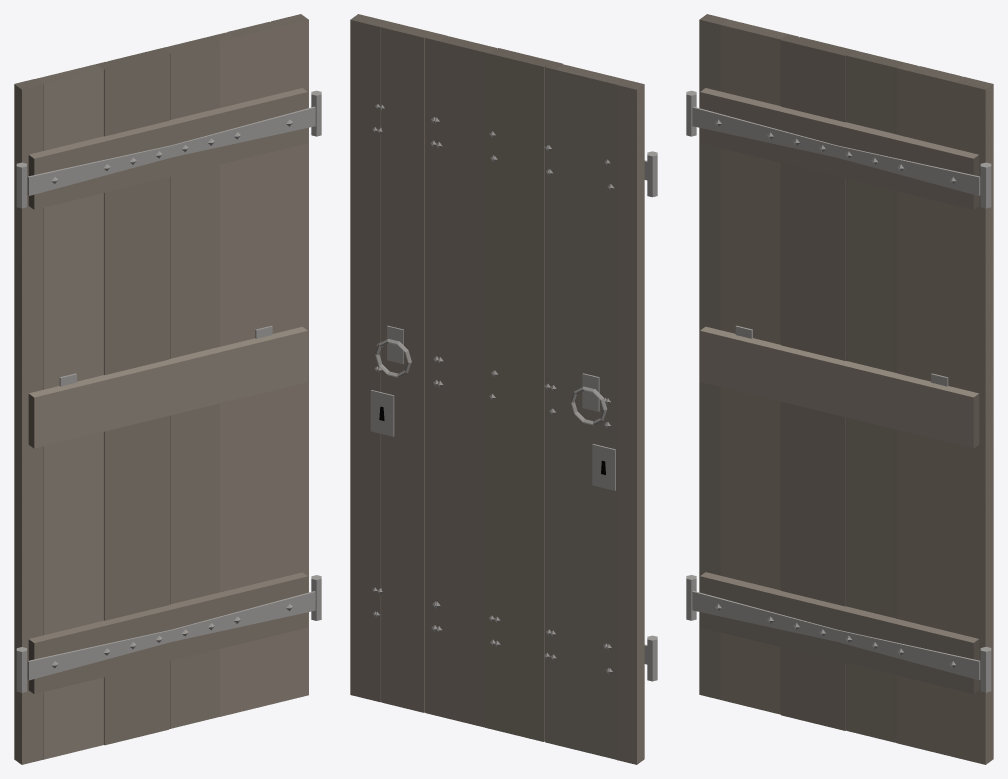
File: prop_door.glb
3 views of the same model, side by side, from view 1: azimuth 30°, elevation 25°; view 2: azimuth 150°, elevation 25°; view 3: azimuth 330°, elevation 25° (orthographic).
Parts seen in each view (by area): view 1: HingeLeft, HingeRight; view 2: HingeRight, HingeLeft; view 3: HingeLeft, HingeRight.
Part boxes in pixels (x1,y1,x2,y2): HingeLeft: (14,14,308,764); HingeRight: (14,14,321,764); HingeRight: (350,14,644,759); HingeLeft: (351,14,657,764); HingeLeft: (686,14,993,764); HingeRight: (699,16,993,764).
Bounding box in the file's own units: 0.936 × 1.98 × 0.102.
